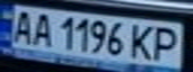1: (54, 13, 75, 51), (69, 16, 90, 52)
6: (106, 20, 130, 57)
9: (87, 18, 109, 55)
A: (6, 8, 39, 45), (27, 10, 57, 47)
K: (124, 21, 160, 61)
P: (148, 25, 187, 63)
